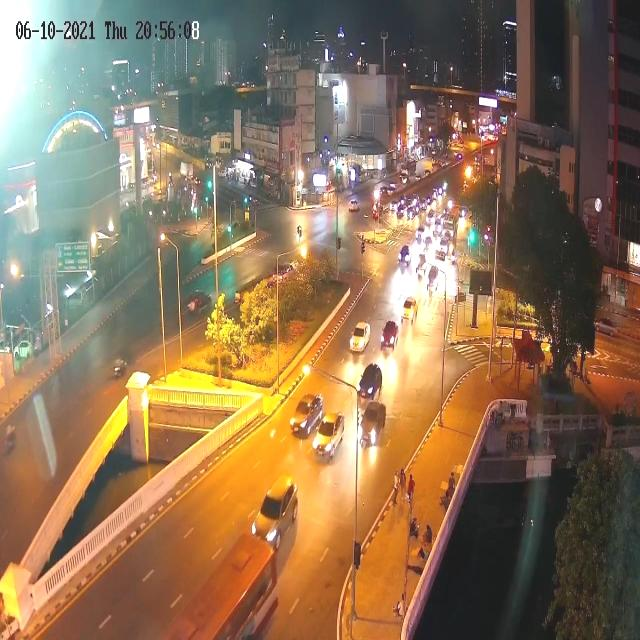Car: (252, 476, 298, 550), (289, 392, 324, 438), (314, 410, 346, 459), (358, 402, 388, 448), (358, 362, 383, 400), (184, 290, 212, 317), (269, 258, 299, 283), (349, 322, 370, 354), (380, 320, 399, 350), (401, 296, 418, 324), (595, 317, 617, 338), (441, 218, 456, 244), (379, 184, 396, 203), (112, 357, 128, 377), (427, 266, 439, 292), (398, 246, 411, 270), (445, 200, 459, 220), (221, 218, 238, 233), (416, 254, 426, 278), (439, 236, 450, 256), (348, 198, 361, 213), (433, 217, 443, 236), (433, 186, 445, 200), (449, 248, 458, 266), (416, 226, 426, 242), (396, 202, 406, 218), (424, 234, 433, 251), (406, 204, 416, 219), (459, 206, 469, 220), (389, 200, 399, 213), (388, 182, 398, 194), (400, 172, 409, 185), (427, 209, 436, 222), (411, 197, 420, 210), (423, 163, 432, 175), (456, 152, 463, 161)
